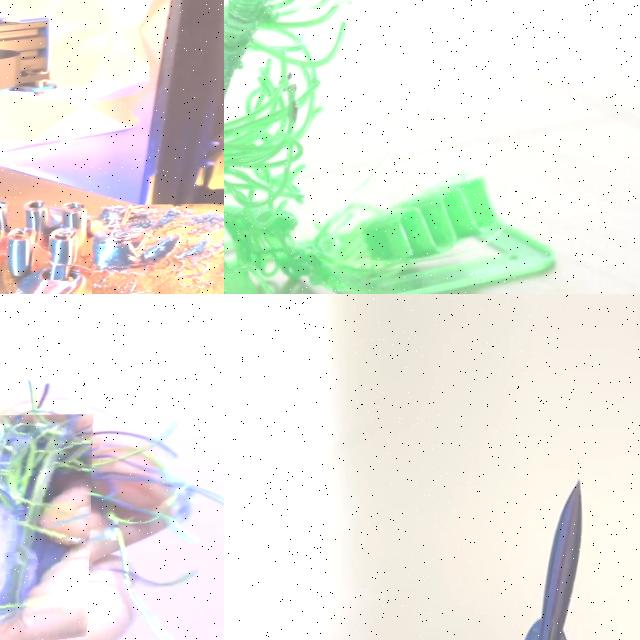spaghetti: (0, 413, 98, 640), (224, 80, 316, 226), (90, 202, 224, 294)
